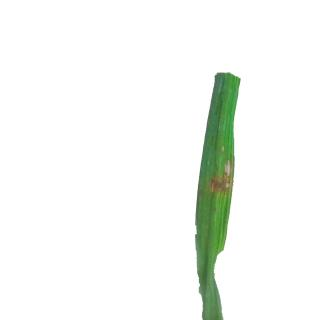Blast: (207, 158, 231, 193)
